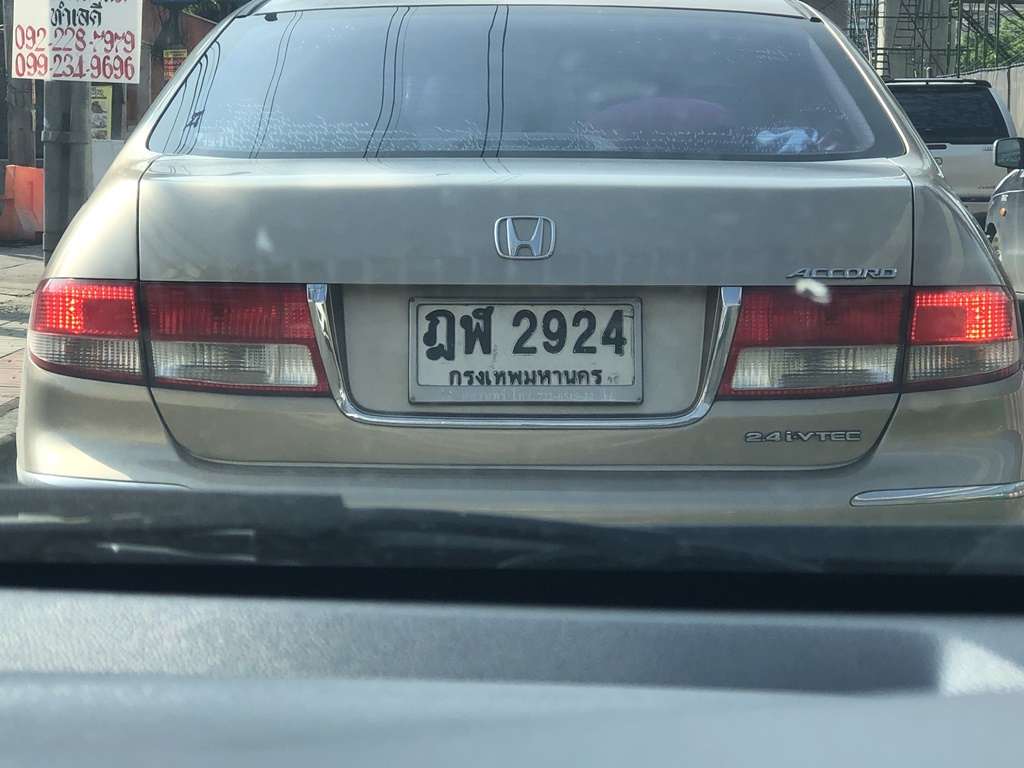four: (594, 297, 632, 364)
nine: (534, 310, 571, 355)
two: (504, 301, 541, 361), (570, 304, 598, 357)
